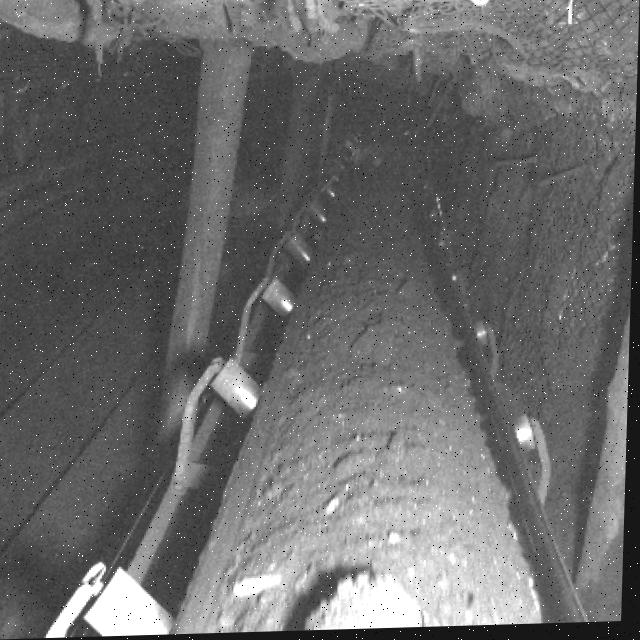large_sized_coal: (285, 580, 431, 633)
